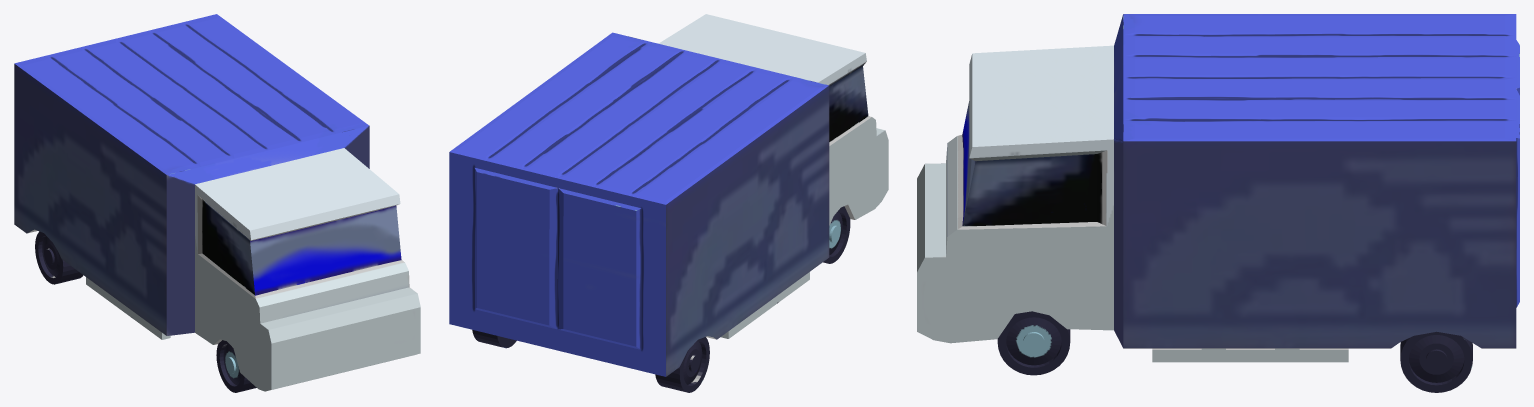
Rendered from truckRedux.gltf.
3 views of the same model, side by side, from view 1: azimuth 30°, elevation 25°; view 2: azimuth 150°, elevation 25°; view 3: azimuth 270°, elevation 25° (orthographic). The views are drawn at different scales.
Visible parts, largest first — view 1: Cylinder.001; view 2: Cylinder.001; view 3: Cylinder.001.
Part boxes in pixels (<box>): Cylinder.001: <box>14,14,420,392</box>; Cylinder.001: <box>449,14,888,392</box>; Cylinder.001: <box>917,14,1519,392</box>.
Size of the model in its own units: 0.7773 by 0.7247 by 1.55.
1 material, 1 textured.
